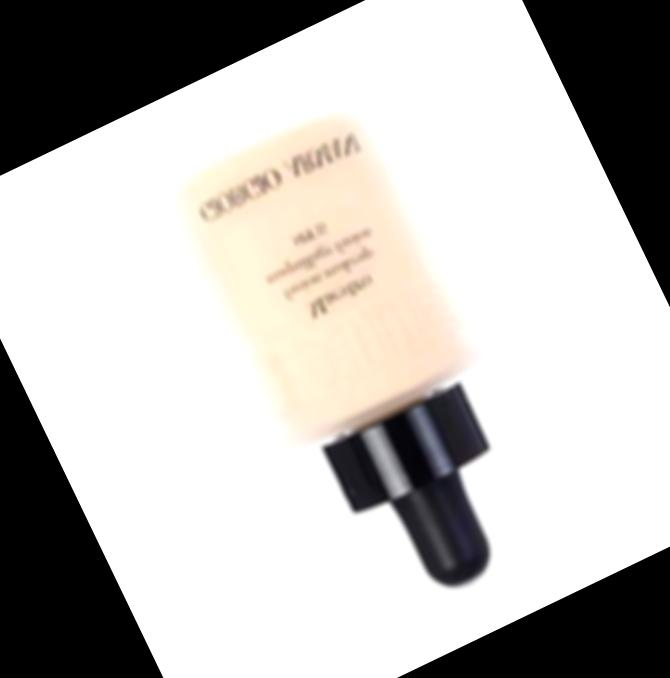cosmetic: (137, 66, 576, 636)
